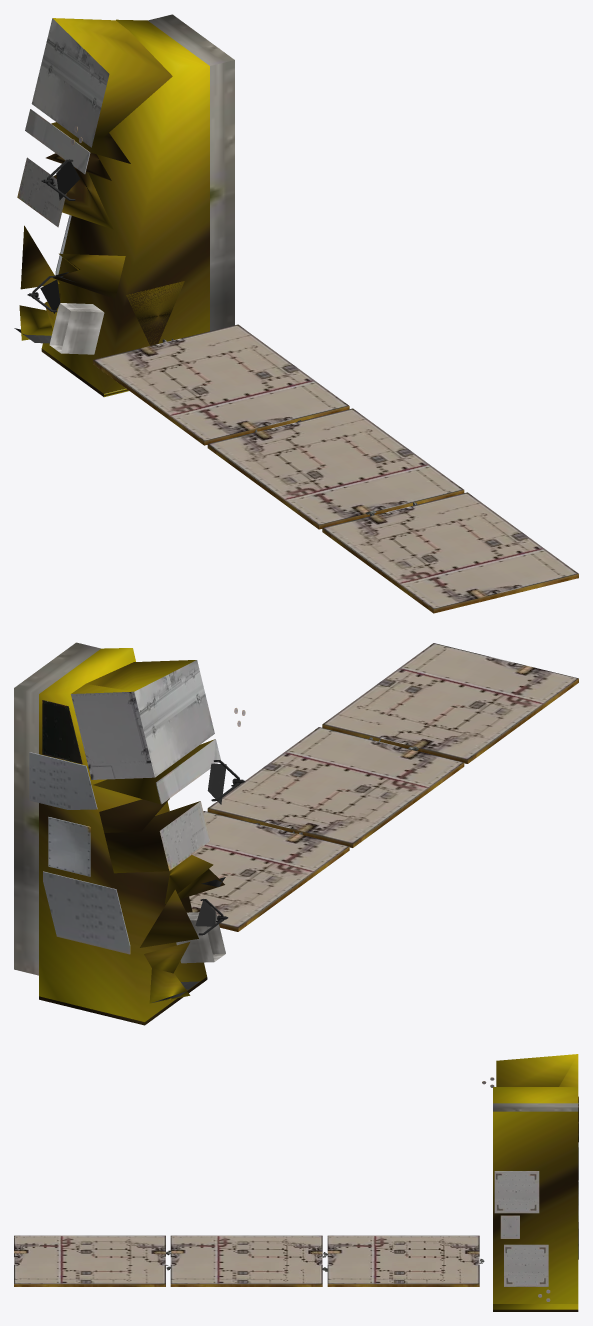
File: suomi-national-polar-orbiting-partnership-suomi-.glb
3 renders of one model, top to bottom at view 1: azimuth 30°, elevation 25°; view 2: azimuth 150°, elevation 25°; view 3: azimuth 270°, elevation 25°, orthographic. The views are drawn at different scales.
Visible parts, largest first — view 1: shiny_panel, foil_gold, tex_02, AO_01; view 2: shiny_panel, foil_gold, tex_02, AO_01; view 3: shiny_panel, foil_gold, tex_02.
Boxes of the visible parts, x1,y1,x2,y2 form: shiny_panel: [55, 126, 578, 613]; foil_gold: [19, 18, 209, 397]; tex_02: [17, 14, 234, 354]; AO_01: [27, 159, 80, 313]; shiny_panel: [29, 643, 578, 954]; foil_gold: [39, 648, 224, 1025]; tex_02: [14, 642, 225, 975]; AO_01: [195, 760, 245, 935]; shiny_panel: [14, 1077, 578, 1301]; foil_gold: [493, 1054, 578, 1311]; tex_02: [493, 1096, 578, 1142].
Bounding box in the file's own units: 2.41 × 4.14 × 8.96.
5 materials, 5 textured.
